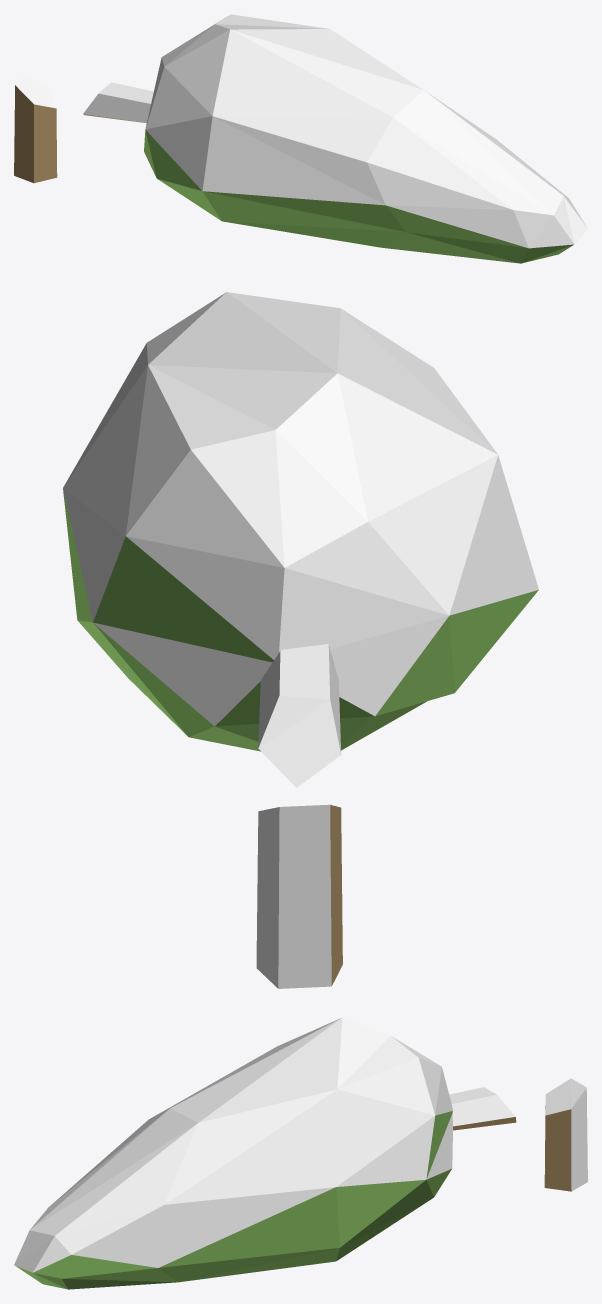
The model's file is Thuja_Tree_crk_s_Snow_BT_01.fbx.
3 views of the same model, one above another, from view 1: azimuth 30°, elevation 25°; view 2: azimuth 150°, elevation 25°; view 3: azimuth 270°, elevation 25° (orthographic). The views are drawn at different scales.
Visible parts, largest first — view 1: Thuja_Tree_crk_s_Snow_BT_01; view 2: Thuja_Tree_crk_s_Snow_BT_01; view 3: Thuja_Tree_crk_s_Snow_BT_01.
Part boxes in pixels (<box>): Thuja_Tree_crk_s_Snow_BT_01: <box>14,14,587,263</box>; Thuja_Tree_crk_s_Snow_BT_01: <box>63,292,538,988</box>; Thuja_Tree_crk_s_Snow_BT_01: <box>14,1017,587,1289</box>.
Size of the model in its own units: 215 by 129 by 321.
